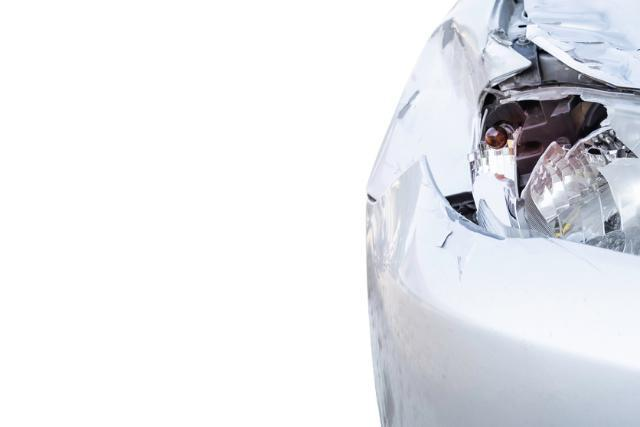Bonnet: (508, 0, 640, 85)
Bumper: (407, 213, 500, 290)
Fender: (407, 18, 484, 189)
Light: (486, 95, 640, 232)
